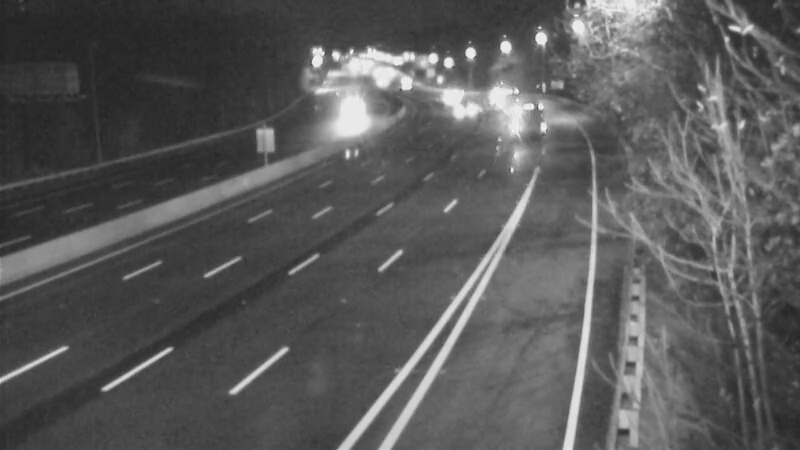vehicle: (374, 56, 424, 106), (473, 67, 523, 117), (423, 71, 473, 121), (442, 79, 492, 129), (498, 87, 548, 137), (326, 92, 376, 142)
